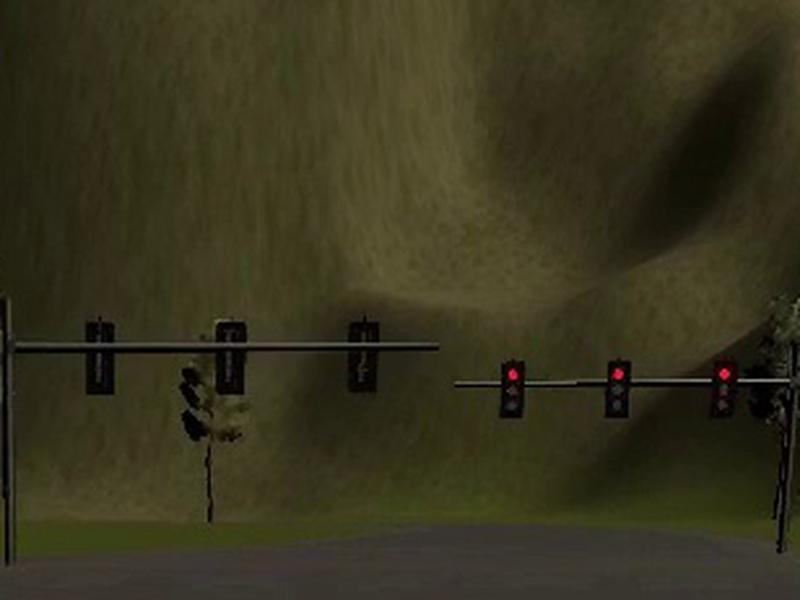Red: (604, 360, 632, 418), (499, 360, 525, 419), (711, 361, 735, 420)
